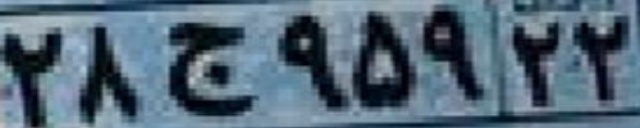2: (2, 26, 67, 127), (571, 16, 629, 101), (510, 16, 560, 106)
5: (352, 9, 413, 106)
8: (75, 23, 142, 120)
9: (274, 11, 346, 108), (420, 8, 483, 100)
jim: (161, 22, 260, 114)
